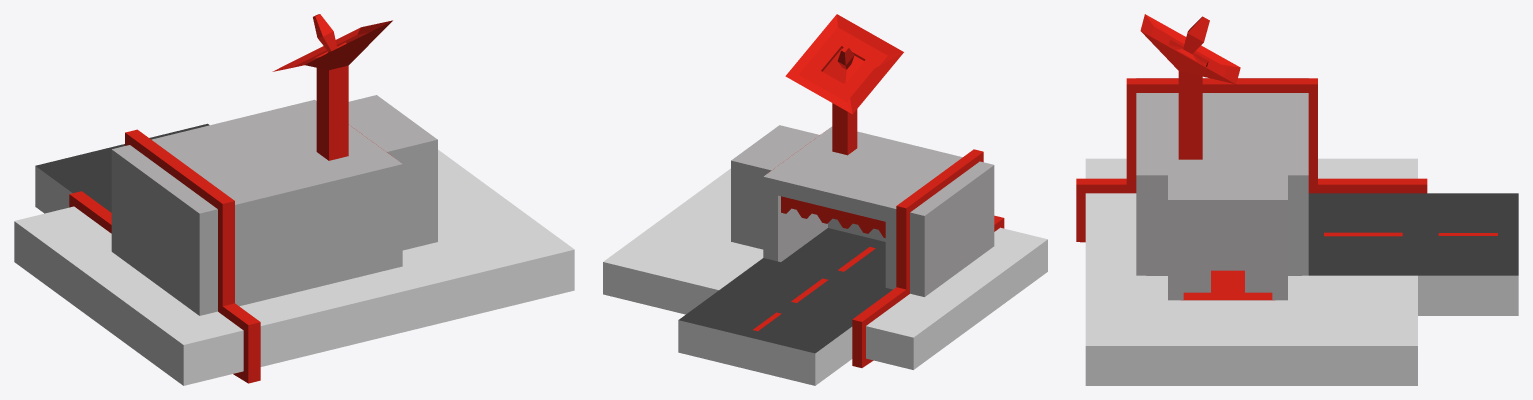
3 renders of one model, left to right at view 1: azimuth 30°, elevation 25°; view 2: azimuth 150°, elevation 25°; view 3: azimuth 270°, elevation 25°, orthographic. The views are drawn at different scales.
Visible parts, largest first — view 1: Base.Active; view 2: Base.Active; view 3: Base.Active.
Part boxes in pixels (x1,y1,x2,y2): Base.Active: (14, 14, 574, 385); Base.Active: (603, 14, 1047, 385); Base.Active: (1076, 14, 1518, 385).
Bounding box in the file's own units: 20 × 14.63 × 19.97.
